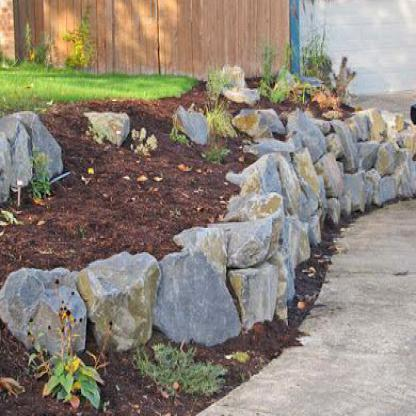Igneous_Basalt: (83, 244, 163, 349), (1, 260, 83, 358), (165, 247, 240, 348), (1, 104, 66, 205), (81, 101, 132, 151), (236, 96, 282, 142), (173, 100, 213, 151)
